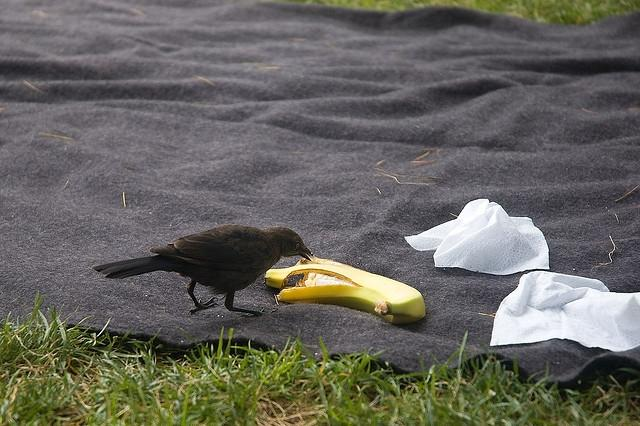banana: (264, 256, 426, 324)
